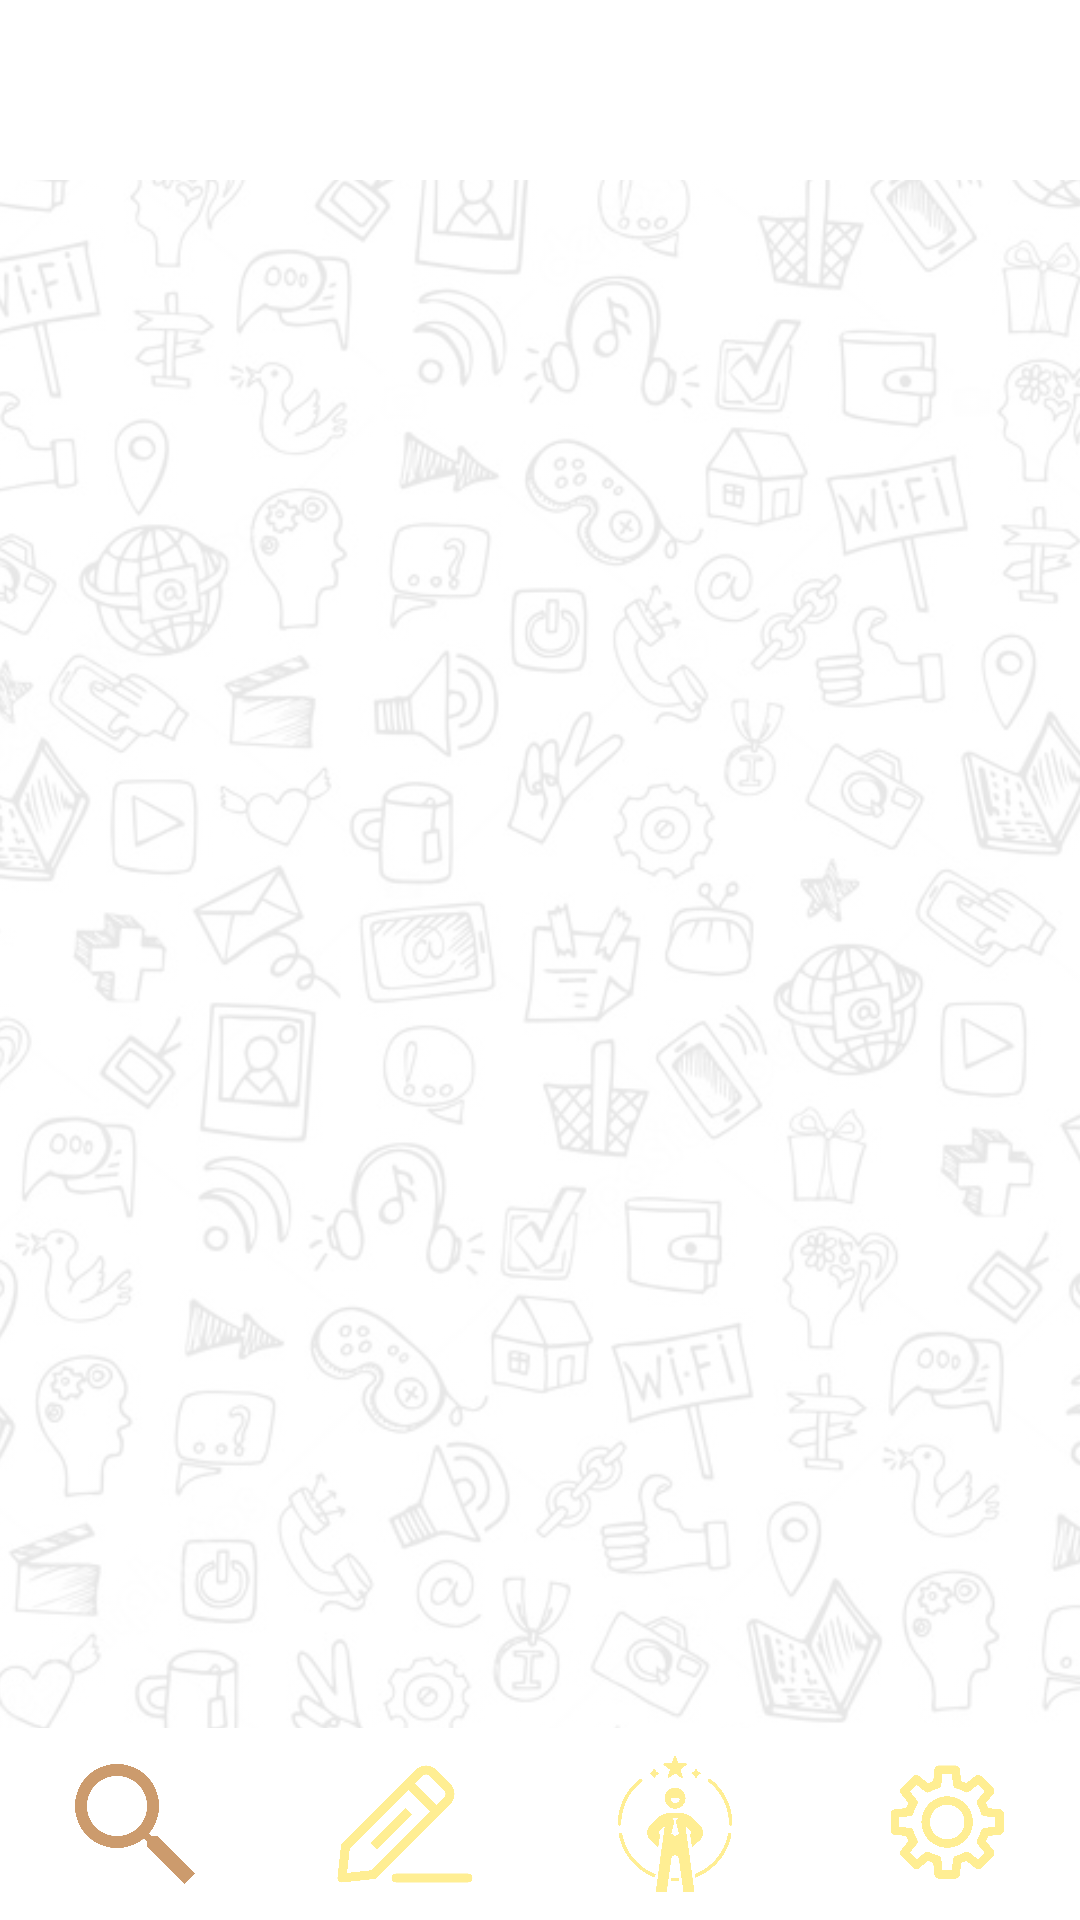

Screen size 1080 x 1920. Icon name, then its box in pixels as region(x1, y1, x2, y2):
find on: region(75, 1764, 195, 1884)
motivation off: region(618, 1756, 732, 1892)
setting off: region(891, 1765, 1004, 1879)
